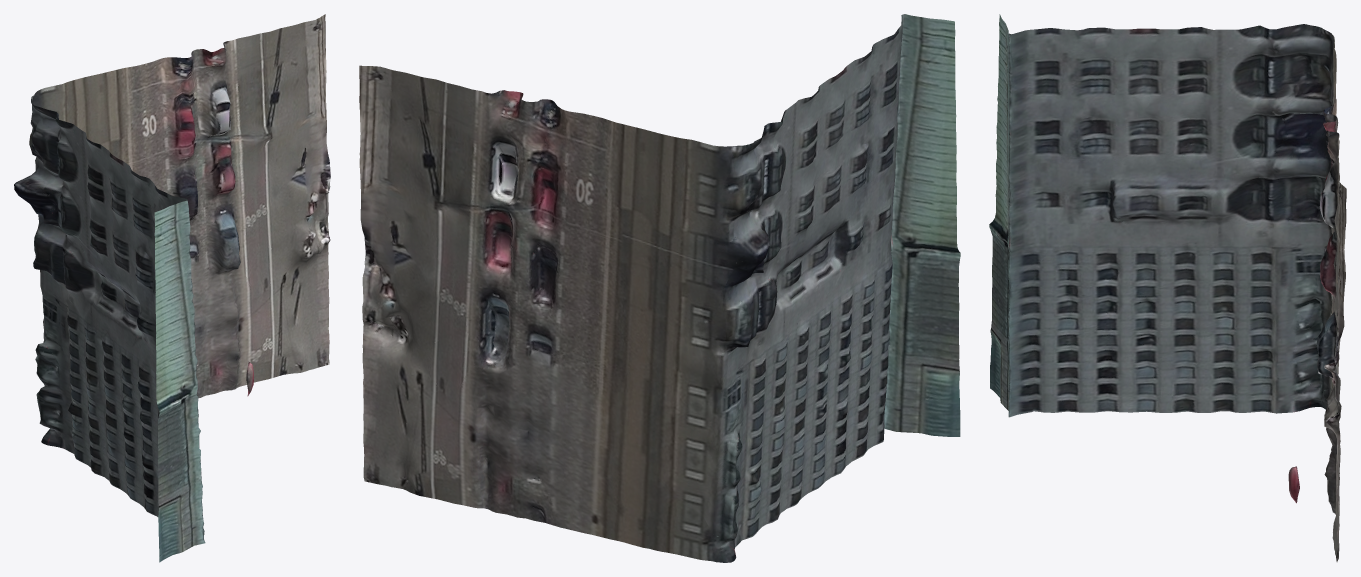
The model's file is Tile_+029_+018_L21_0021300.fbx.
3 renders of one model, left to right at view 1: azimuth 30°, elevation 25°; view 2: azimuth 150°, elevation 25°; view 3: azimuth 270°, elevation 25°, orthographic. The views are drawn at different scales.
Parts seen in each view (by area): view 1: DefaultName; view 2: DefaultName; view 3: DefaultName.
Part boxes in pixels (x1,y1,x2,y2): DefaultName: (14,14,330,562); DefaultName: (359,14,960,562); DefaultName: (989,14,1346,562).
Size of the model in its own units: 31.38 by 31.38 by 27.16.
1 material, 1 textured.
